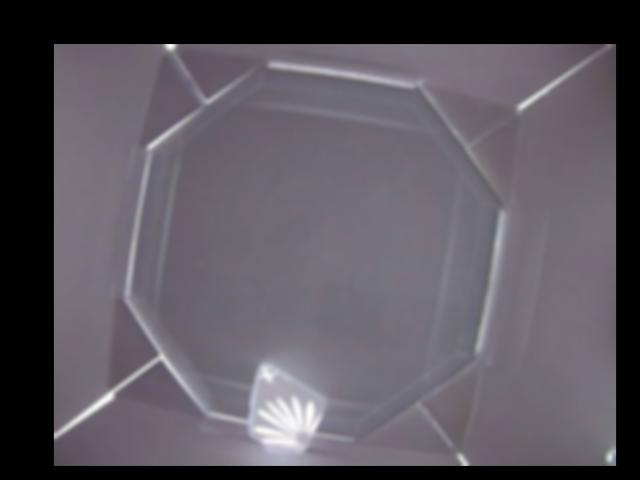China: (247, 361, 326, 454)
